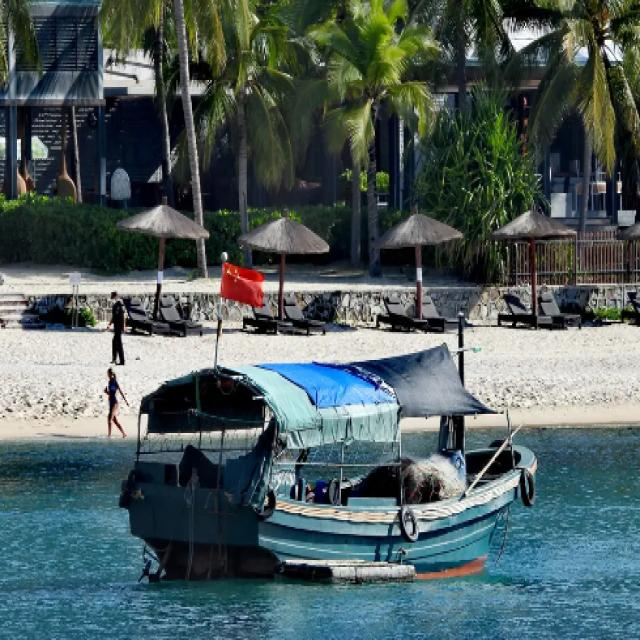fishing boat: (135, 318, 535, 586)
